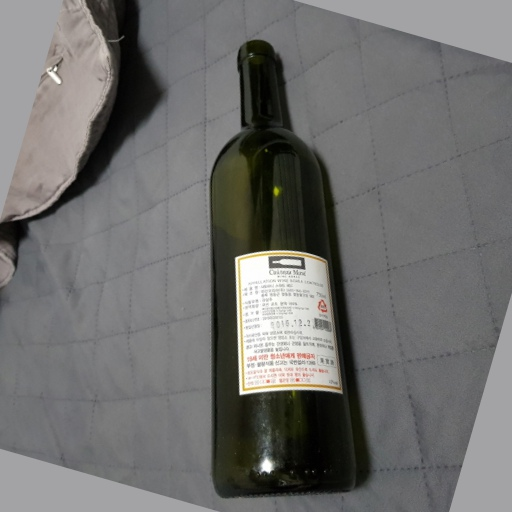Glass_2: (203, 36, 358, 502)
